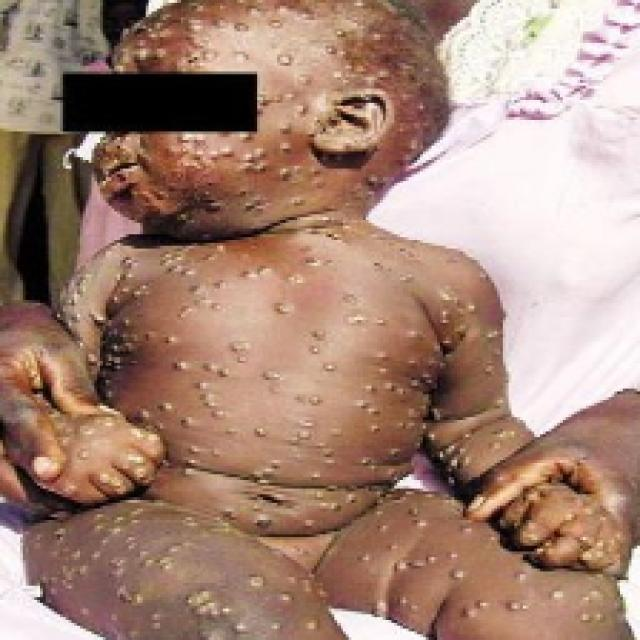Eczema: (19, 0, 620, 640)
